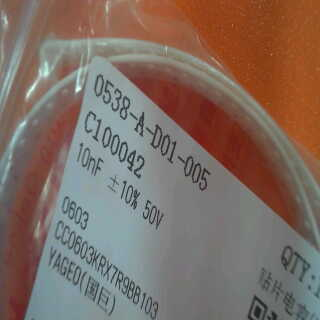10nF: (64, 140, 104, 178)
